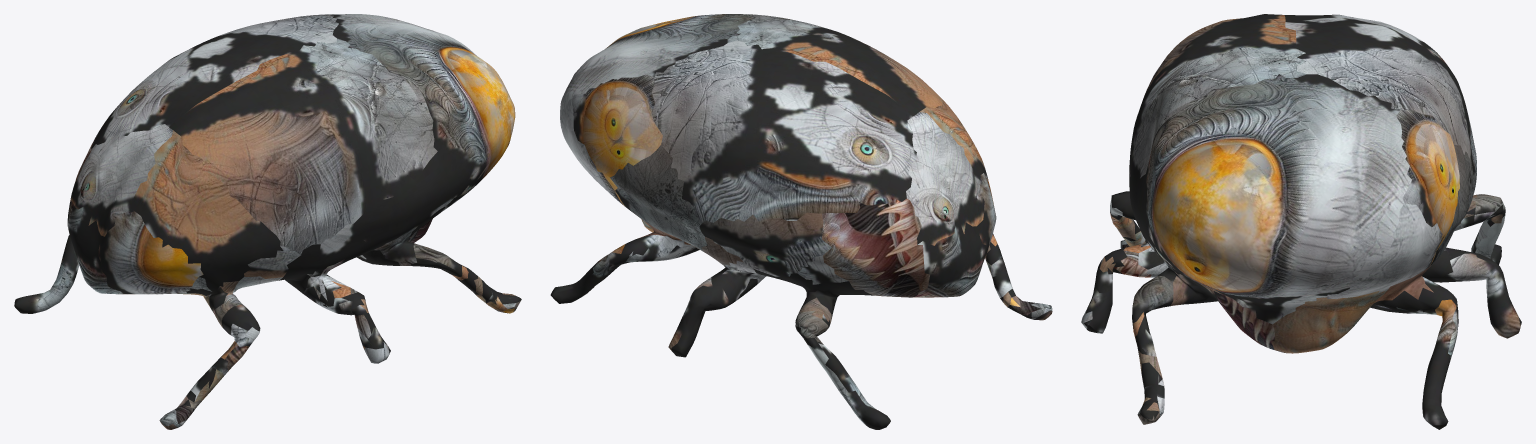
Rendered from bug.obj.
3 renders of one model, left to right at view 1: azimuth 30°, elevation 25°; view 2: azimuth 150°, elevation 25°; view 3: azimuth 270°, elevation 25°, orthographic. The views are drawn at different scales.
Parts seen in each view (by area): view 1: Mesh_0; view 2: Mesh_0; view 3: Mesh_0.
Boxes of the visible parts, x1,y1,x2,y2 form: Mesh_0: (14,14,521,429); Mesh_0: (550,14,1052,429); Mesh_0: (1081,14,1521,429).
Size of the model in its own units: 1.2 by 0.7906 by 0.9724.
